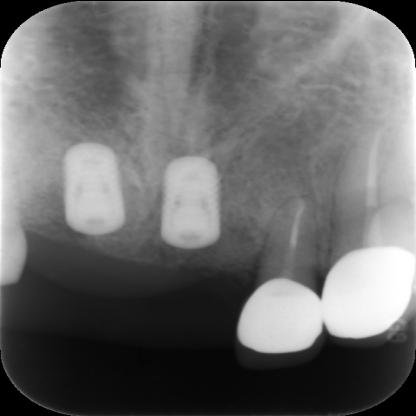ITI: (157, 152, 222, 251), (63, 141, 123, 236)
